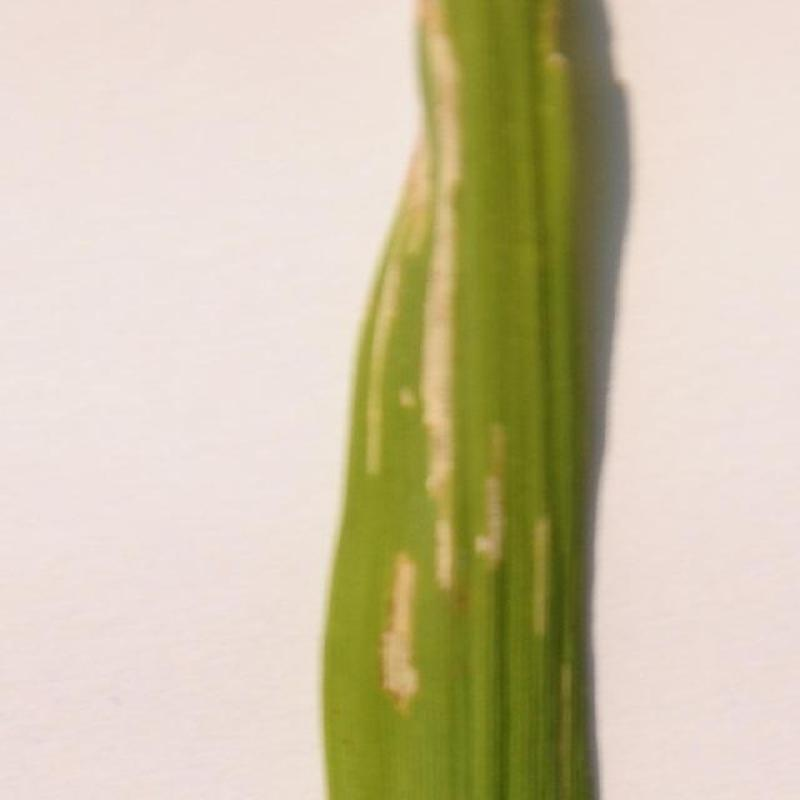Bacterial_Leaf_Blight: (374, 0, 468, 464), (426, 388, 550, 574), (355, 505, 435, 760), (519, 495, 559, 657)
